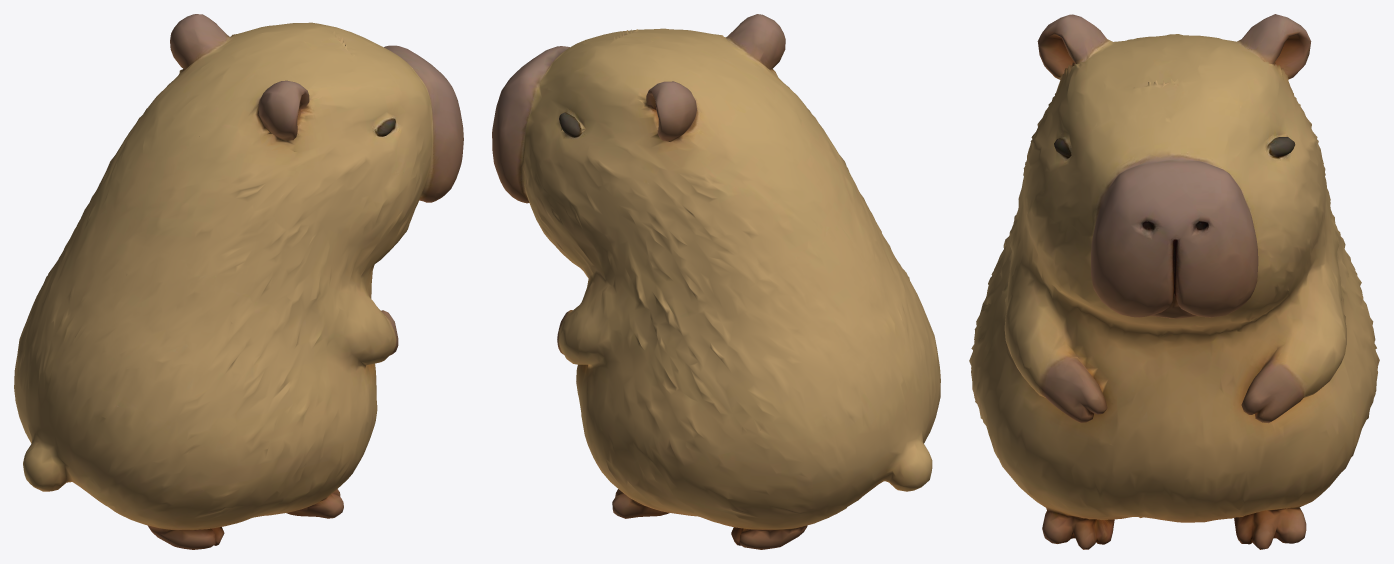
Rendered from capy.glb.
3 renders of one model, left to right at view 1: azimuth 30°, elevation 25°; view 2: azimuth 150°, elevation 25°; view 3: azimuth 270°, elevation 25°, orthographic. The views are drawn at different scales.
Parts seen in each view (by area): view 1: tripo_node_c255a461-b255-4ec6-ab6d-6c5821a067bf; view 2: tripo_node_c255a461-b255-4ec6-ab6d-6c5821a067bf; view 3: tripo_node_c255a461-b255-4ec6-ab6d-6c5821a067bf.
Boxes of the visible parts, x1,y1,x2,y2 form: tripo_node_c255a461-b255-4ec6-ab6d-6c5821a067bf: (14,14,463,549); tripo_node_c255a461-b255-4ec6-ab6d-6c5821a067bf: (492,14,940,549); tripo_node_c255a461-b255-4ec6-ab6d-6c5821a067bf: (969,14,1379,549).
Size of the model in its own units: 0.9973 by 1 by 0.7337.
Materials: 1 (1 with a texture image).
